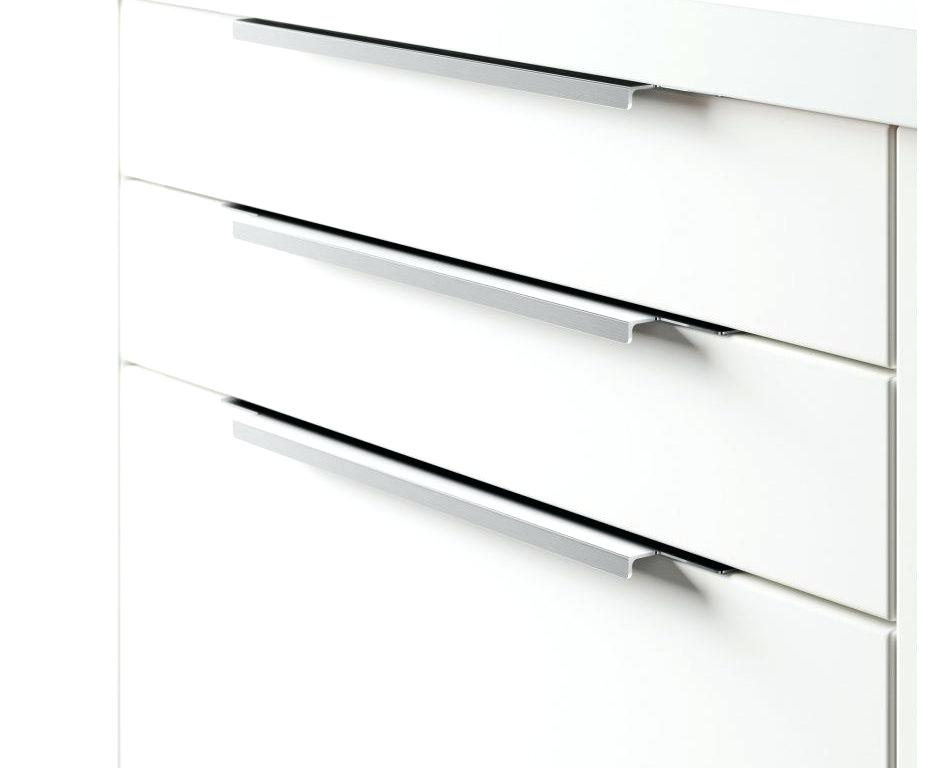cabinet door: (130, 188, 936, 594), (129, 370, 899, 768), (122, 22, 891, 335)
handle: (216, 410, 661, 581), (222, 199, 660, 340), (233, 12, 666, 131)
